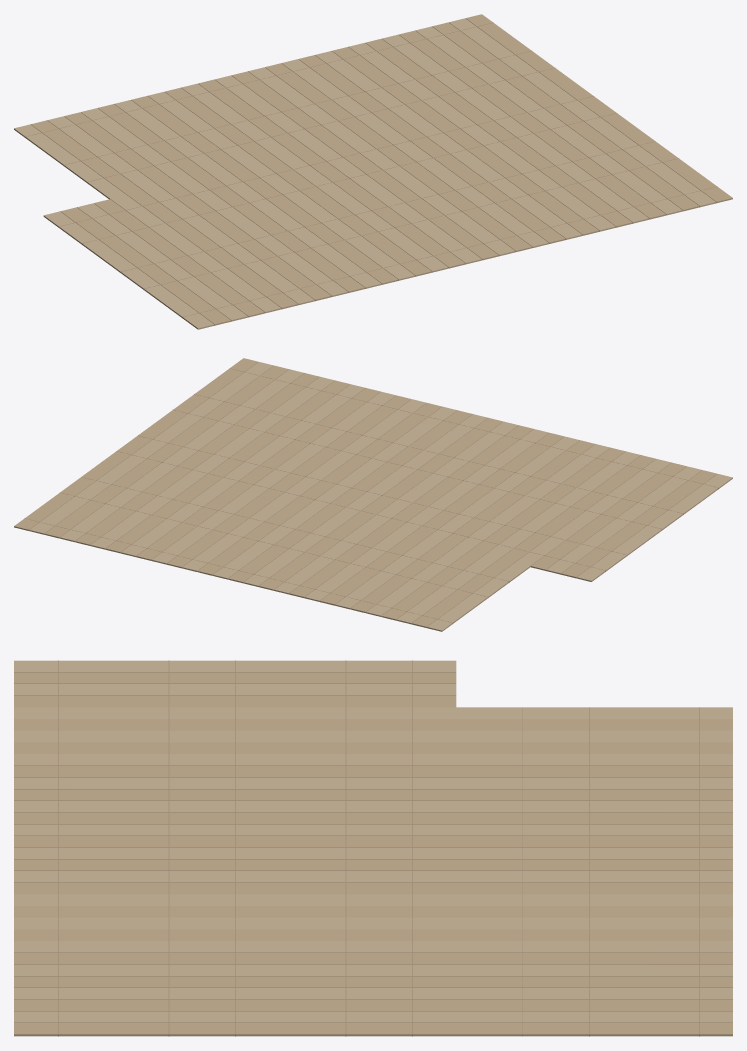
The model's file is home_floor_boards_s4__oak.glb.
3 renders of one model, top to bottom at view 1: azimuth 30°, elevation 25°; view 2: azimuth 150°, elevation 25°; view 3: azimuth 270°, elevation 25°, orthographic. The views are drawn at different scales.
Bounding box in the file's own units: 16 × 0.042 × 13.
